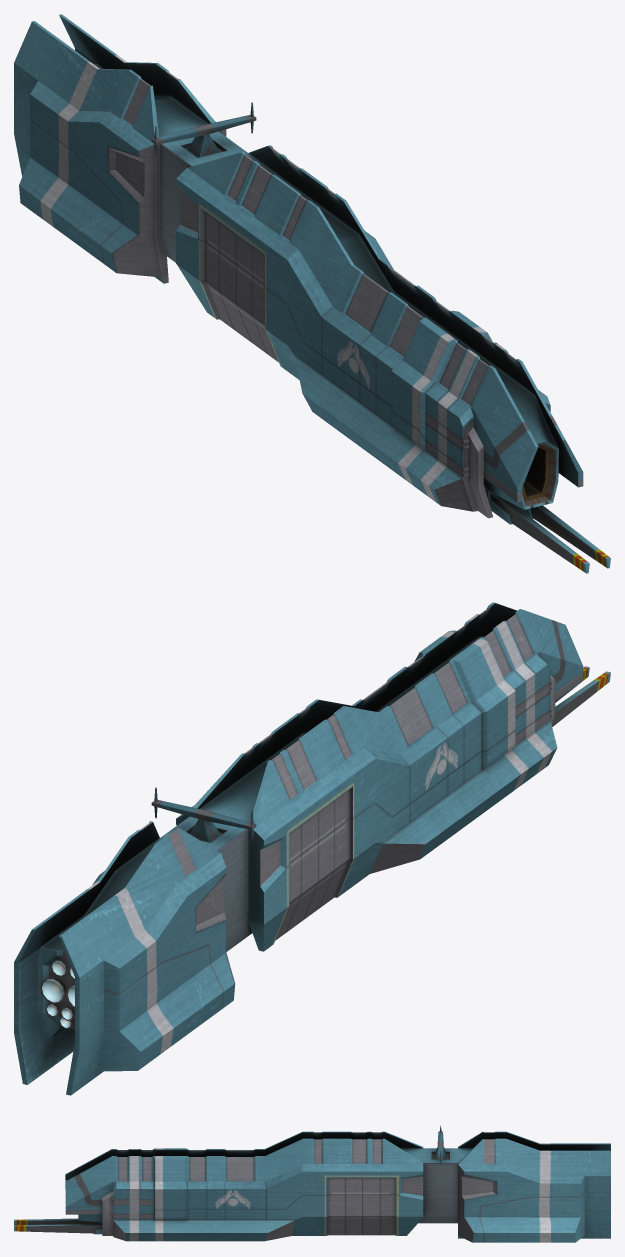
File: dreadnought.obj
3 views of the same model, one above another, from view 1: azimuth 30°, elevation 25°; view 2: azimuth 150°, elevation 25°; view 3: azimuth 270°, elevation 25° (orthographic). The views are drawn at different scales.
Visible parts, largest first — view 1: dreadnought_Mesh; view 2: dreadnought_Mesh; view 3: dreadnought_Mesh.
Boxes of the visible parts, left/top/right/bottom form: dreadnought_Mesh: left=14, top=14, right=610, bottom=573; dreadnought_Mesh: left=14, top=602, right=610, bottom=1095; dreadnought_Mesh: left=14, top=1125, right=610, bottom=1242.
Bounding box in the file's own units: 5.56 × 7.7 × 43.09.
Materials: 1 (1 with a texture image).
